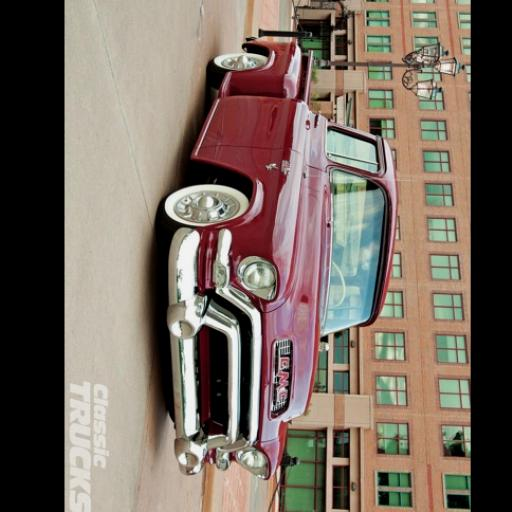truck: (156, 30, 400, 486)
